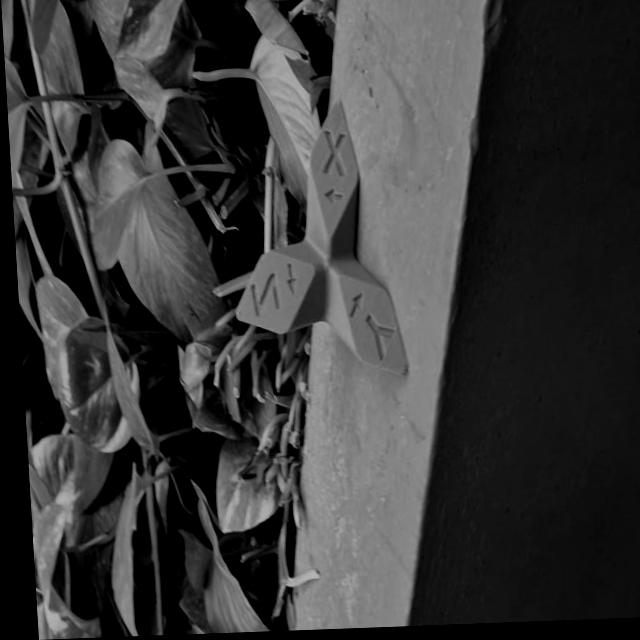eje: (221, 93, 412, 385)
